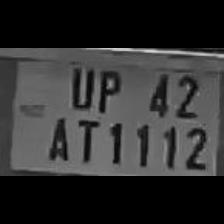1: (127, 116, 153, 168), (153, 118, 179, 170), (102, 116, 126, 166)
2: (170, 69, 200, 119), (180, 121, 209, 171)
4: (142, 65, 172, 119)
A: (42, 112, 70, 162)
P: (93, 64, 123, 112)
T: (72, 114, 102, 162)
U: (65, 60, 95, 110)
